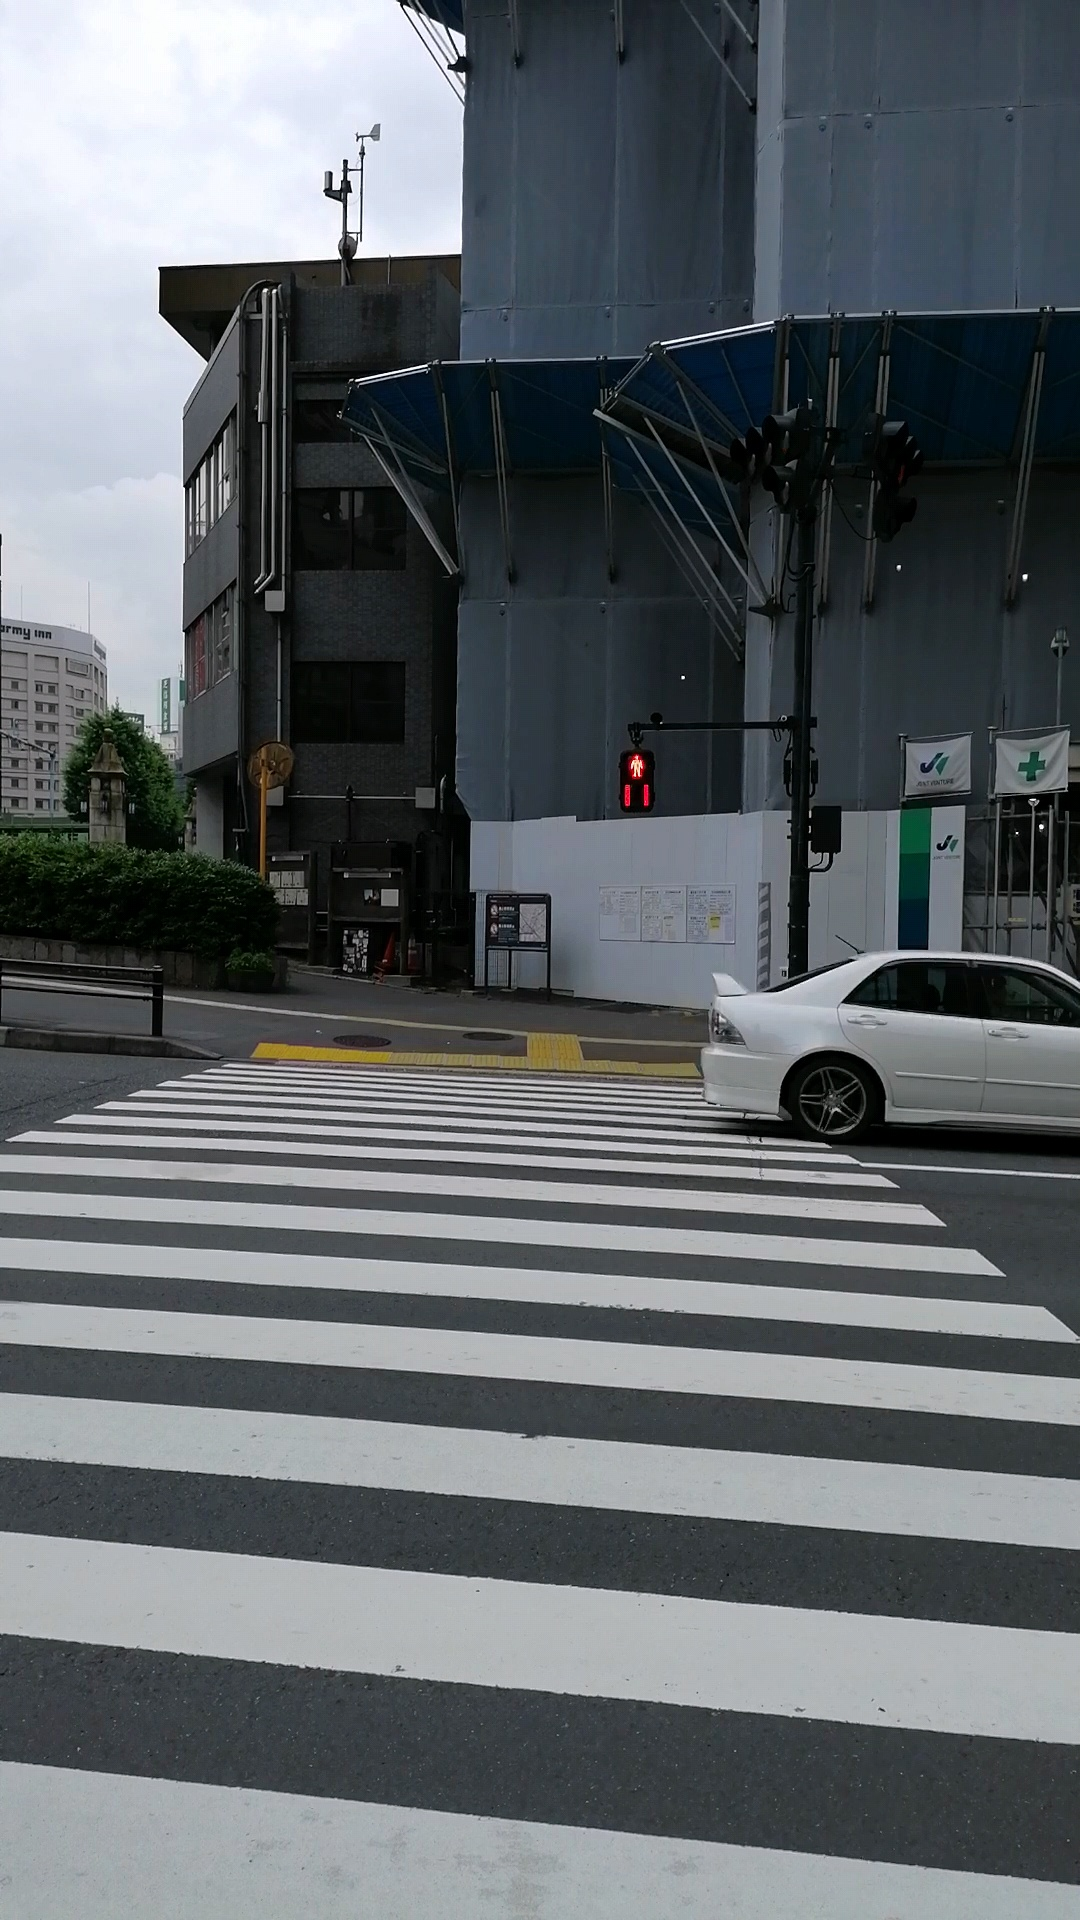red: (620, 748, 655, 811)
